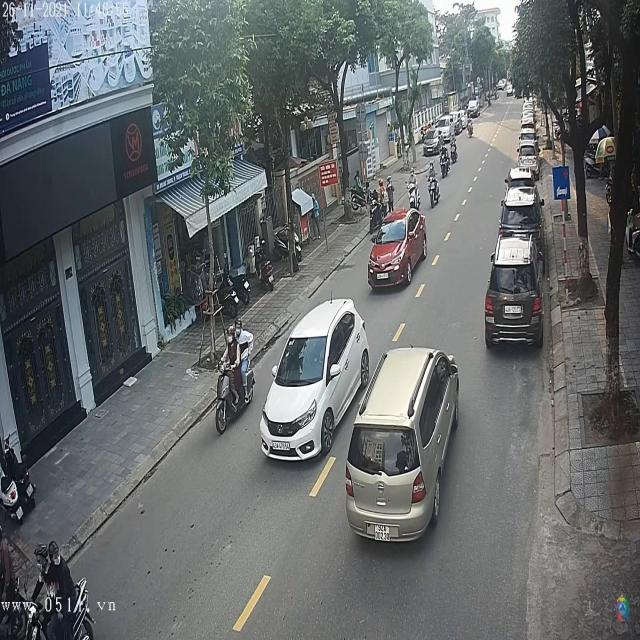car: (343, 347, 460, 545), (258, 298, 372, 463), (485, 239, 542, 349), (368, 208, 430, 292), (500, 185, 543, 238), (424, 126, 447, 154)
motorcycle: (217, 359, 255, 439), (406, 184, 423, 221), (430, 176, 441, 208), (439, 157, 451, 183)
